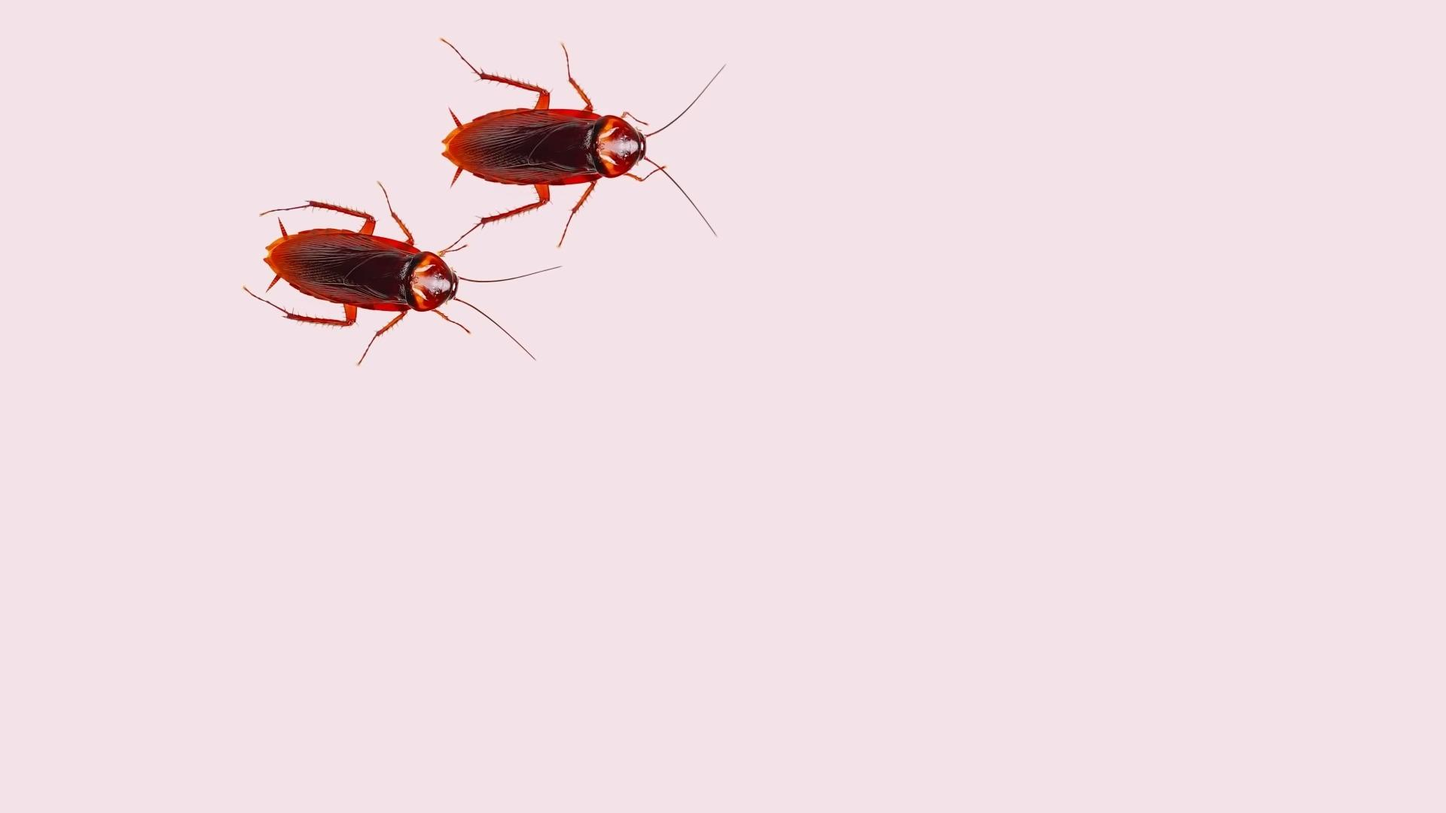cockroach: (411, 72, 670, 185), (324, 229, 465, 328)
